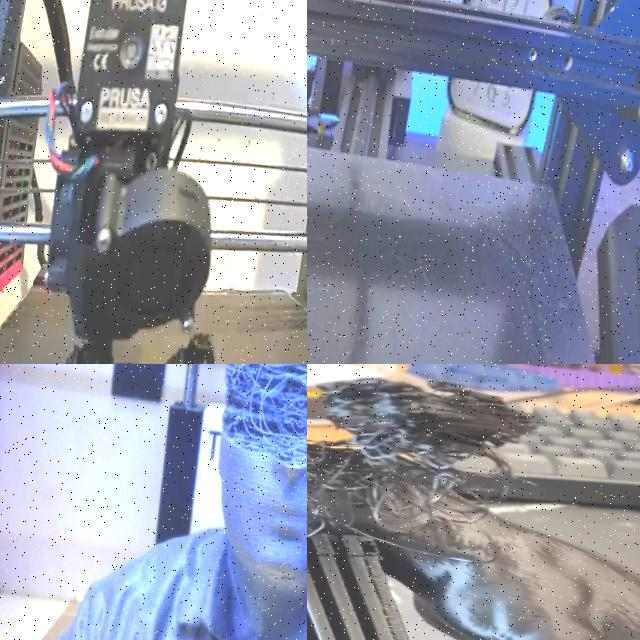spaghetti: (307, 364, 546, 583), (202, 364, 307, 480)
